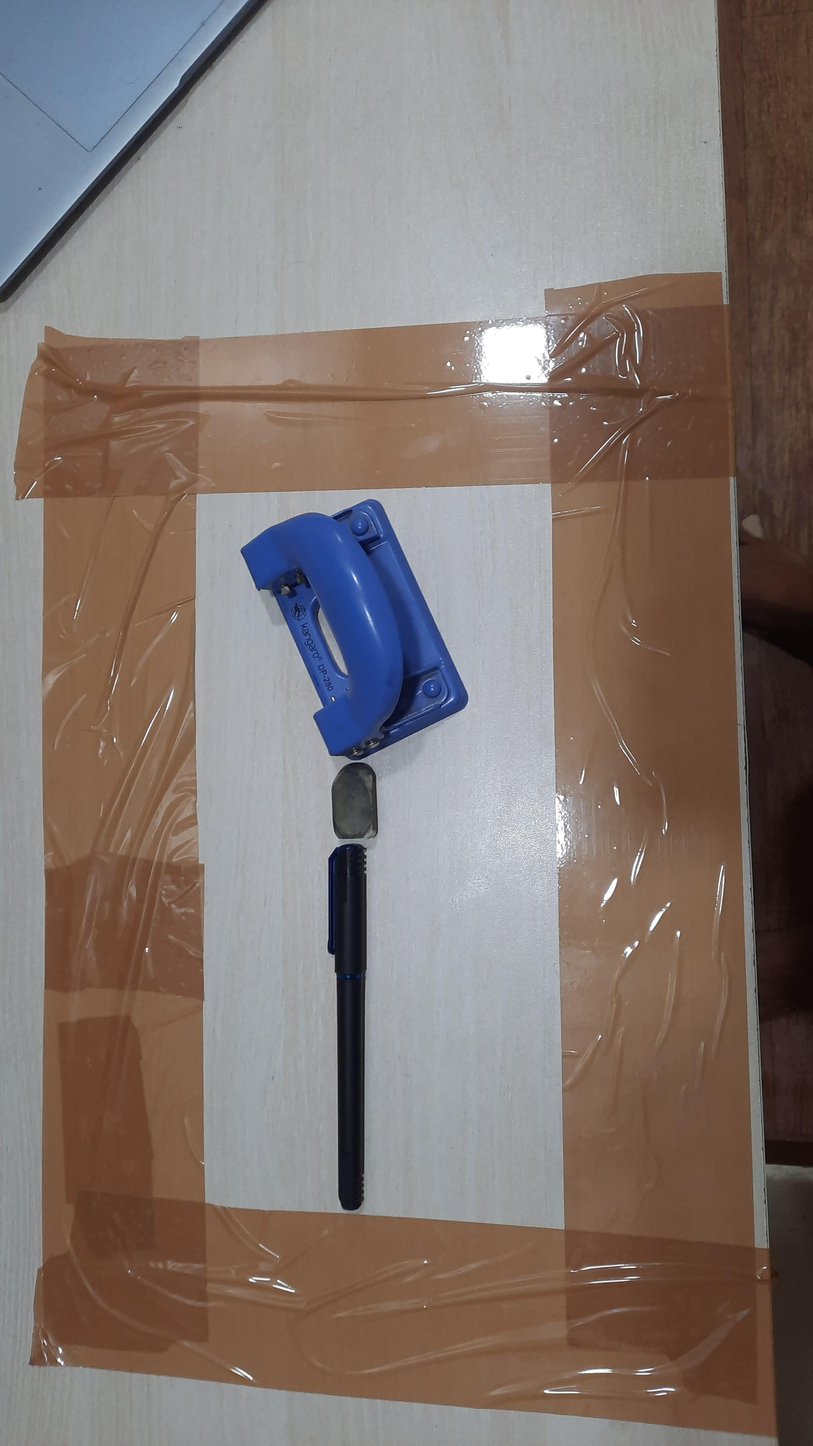Eraser: (331, 762, 378, 841)
Pen: (326, 843, 369, 1212)
Punch: (240, 499, 469, 762)
